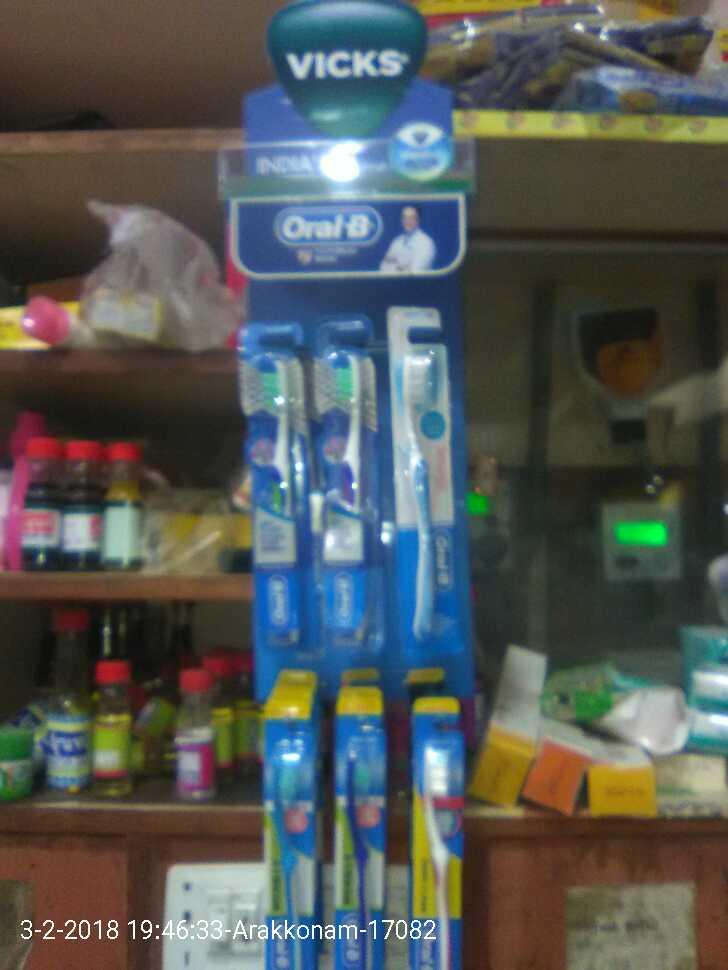pharmacy: (235, 333, 311, 666), (383, 347, 463, 653), (313, 328, 363, 639)
